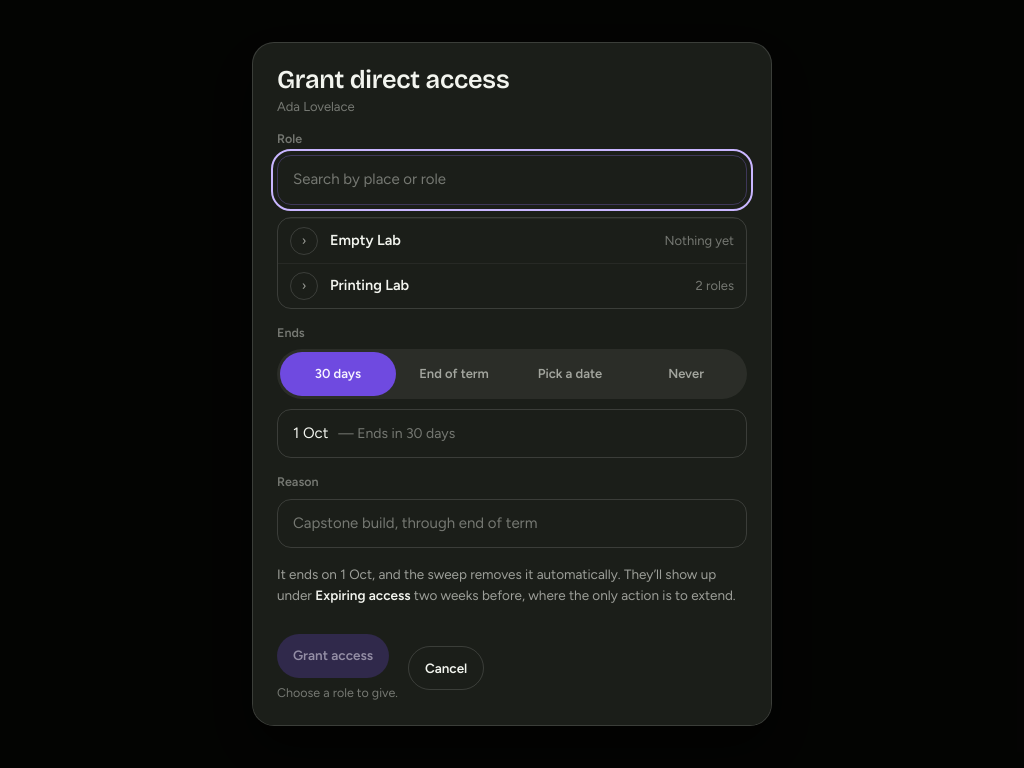
Test case: GrantDirectAccess · End of term › is the end of the term holding today, from the term setting
Click the radio button labelled "End of term" at point(454, 374), box [396,352,512,396]
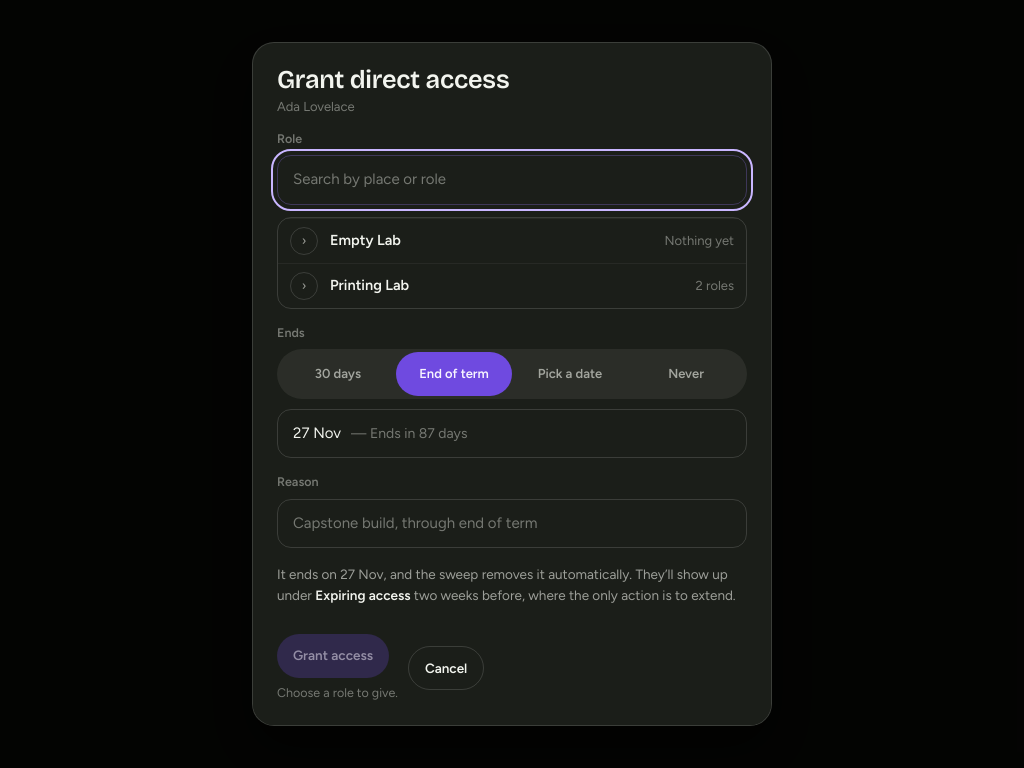
expect the text "27 Nov" is shown: met, box [293,424,341,442]
